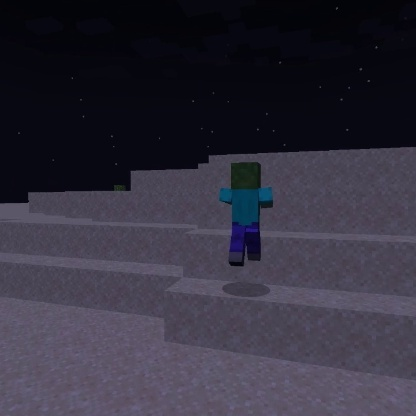zombie: (214, 158, 277, 269)
